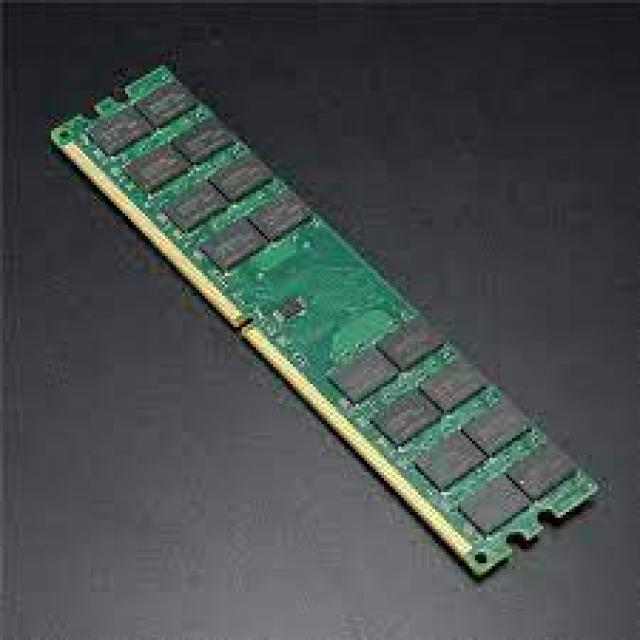Ram: (60, 23, 640, 640)
